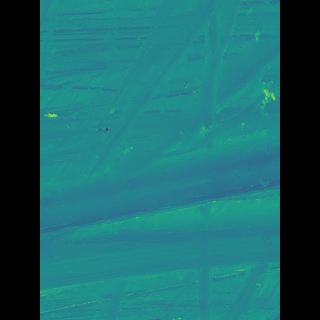Loch: (71, 17, 249, 293)
